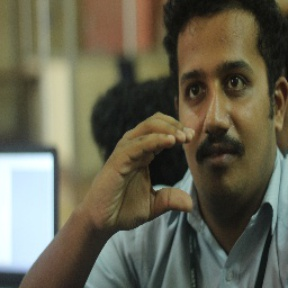C: (105, 112, 206, 225)
